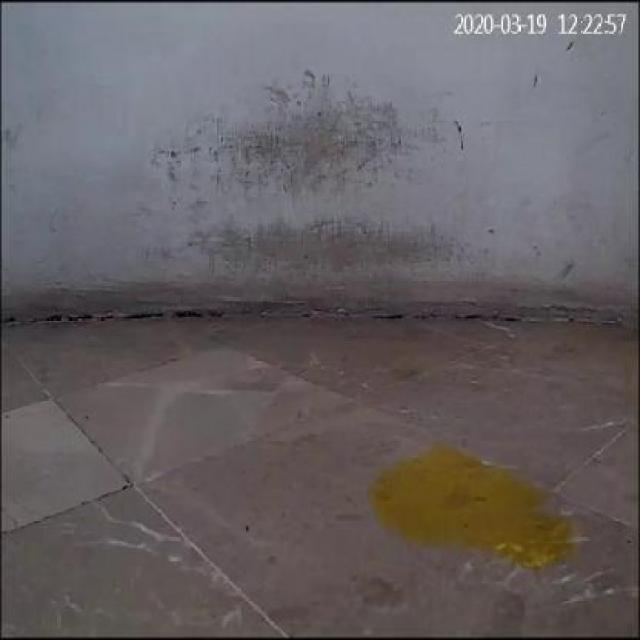spill: (359, 451, 576, 567)
